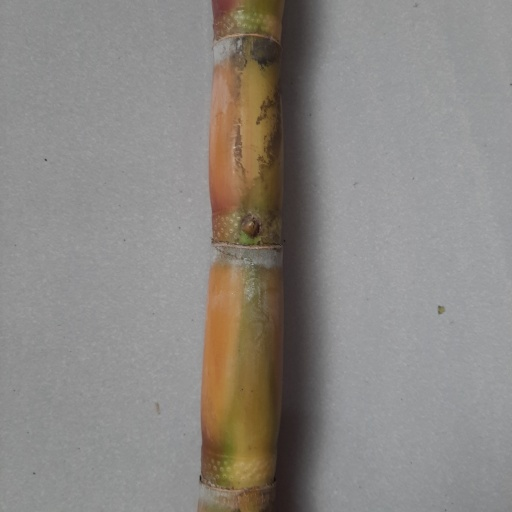Bud: (239, 214, 260, 237)
